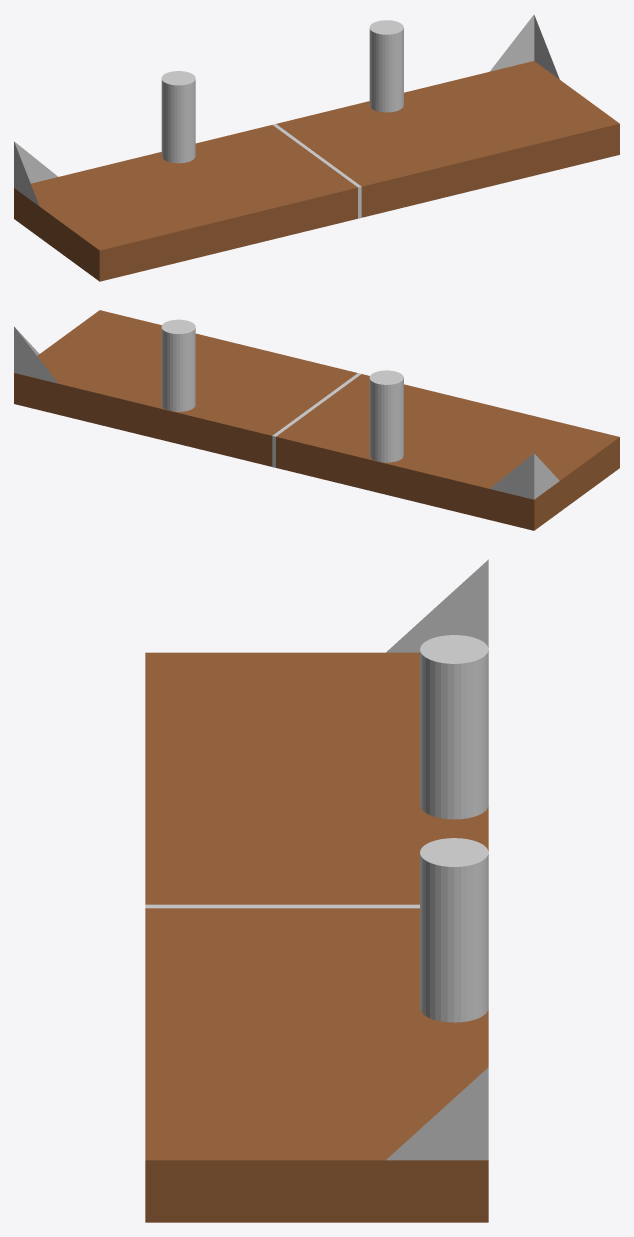
Rendered from stage01.glb.
3 views of the same model, one above another, from view 1: azimuth 30°, elevation 25°; view 2: azimuth 150°, elevation 25°; view 3: azimuth 270°, elevation 25° (orthographic). The views are drawn at different scales.
Parts seen in each view (by area): view 1: Ground, PillarR, PillarL, CornerR, CornerL, MarkerC; view 2: Ground, PillarL, PillarR, CornerL, CornerR, MarkerC; view 3: Ground, PillarL, PillarR, CornerR, CornerL, MarkerC.
Part boxes in pixels (x1,y1,x2,y2): Ground: (14,61,619,281); PillarR: (369,20,403,112); PillarL: (161,71,195,163); CornerR: (490,14,559,79); CornerL: (14,141,57,206); MarkerC: (272,124,361,218); Ground: (14,310,619,530); PillarL: (369,370,403,462); PillarR: (161,319,195,411); CornerL: (490,453,559,499); CornerR: (14,326,57,383); MarkerC: (272,373,361,467); Ground: (145,652,488,1222); PillarL: (420,635,488,819); PillarR: (420,838,488,1022); CornerR: (386,1067,488,1160); CornerL: (386,559,488,652); MarkerC: (145,904,419,908).
Size of what is drawn, in the model's own units: 35 by 7 by 10.01.
